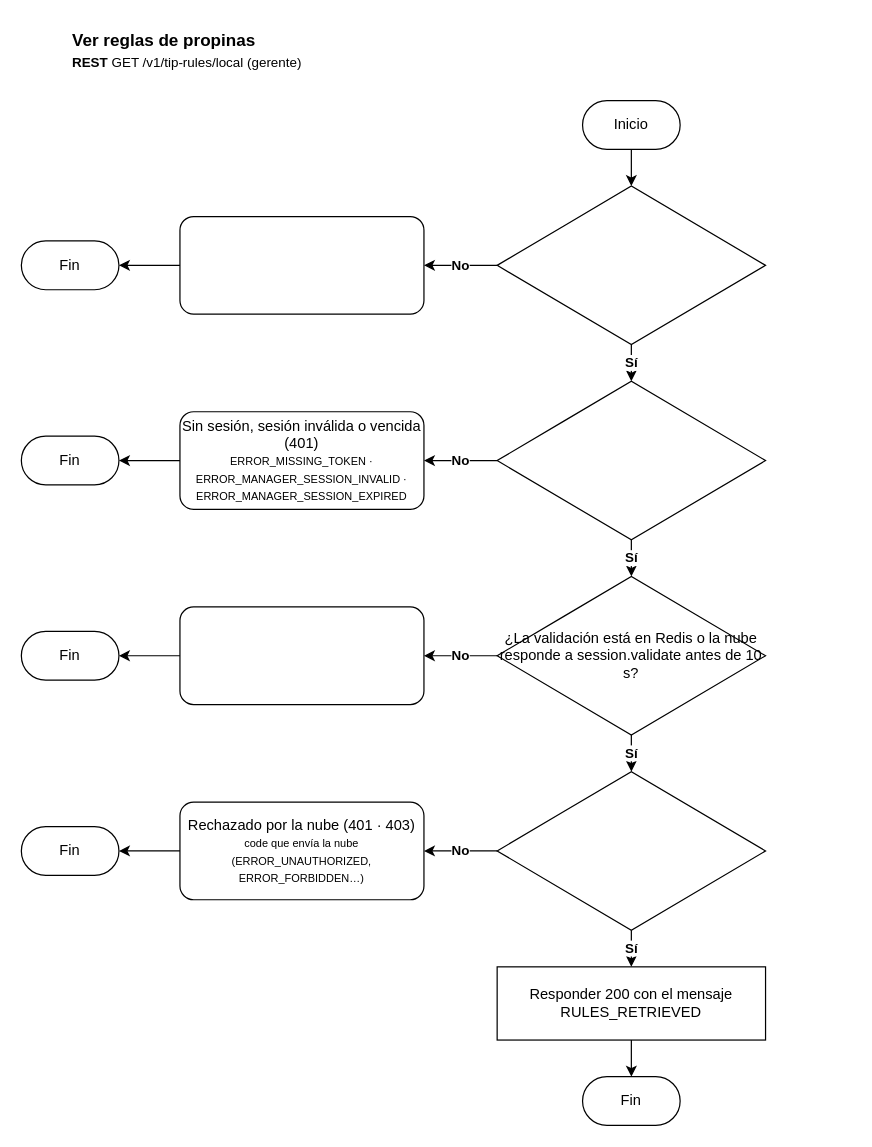
Image size: 872x1147. Some labels were removed from this diagram. The shapes that lost their labels are listed below. From the top down, each one's centre as x and y in pixels, then its label:
At (x=301, y=264): "Servidor sin emparejar (409) ERROR_SERVER_NOT_PAIRED".
At (x=631, y=265): "¿El servidor ya se emparejó alguna vez (pairing_status distinto de unpaired)?".
At (x=631, y=460): "¿Trae una sesión de gerente válida (Bearer mss_..., sin 30 min de inactividad)?".
At (x=301, y=655): "La nube no responde (503) ERROR_CLOUD_UNAVAILABLE · ERROR_SERVER_UNLINKED".
At (x=631, y=850): "¿La nube acepta la sesión del gerente con este servidor?".
